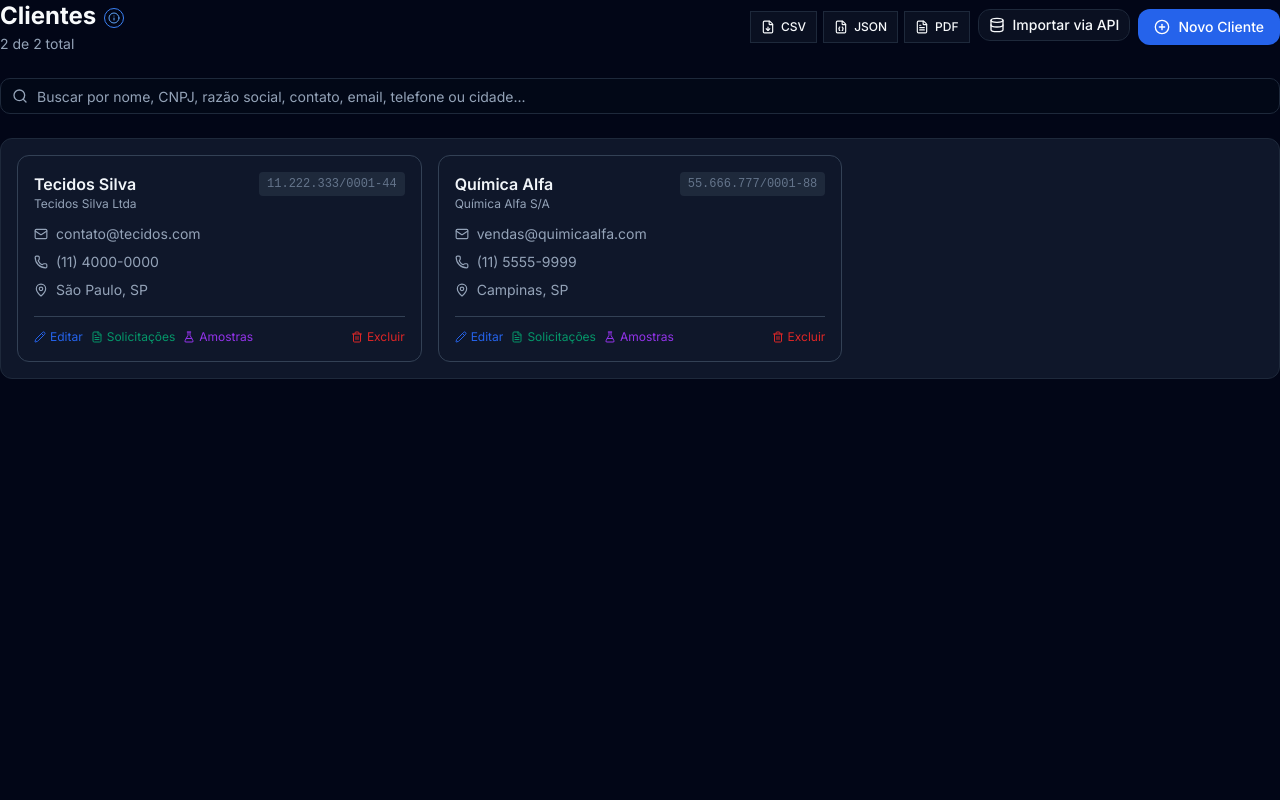
ClientesComercialPage - excluir › exclui um cliente via modal de confirmação
Expected: the heading "Tecidos Silva" is shown, [34, 174, 136, 194]
Click the button "Excluir" below "São Paulo". click: point(378, 337)
box: [351, 329, 405, 345]
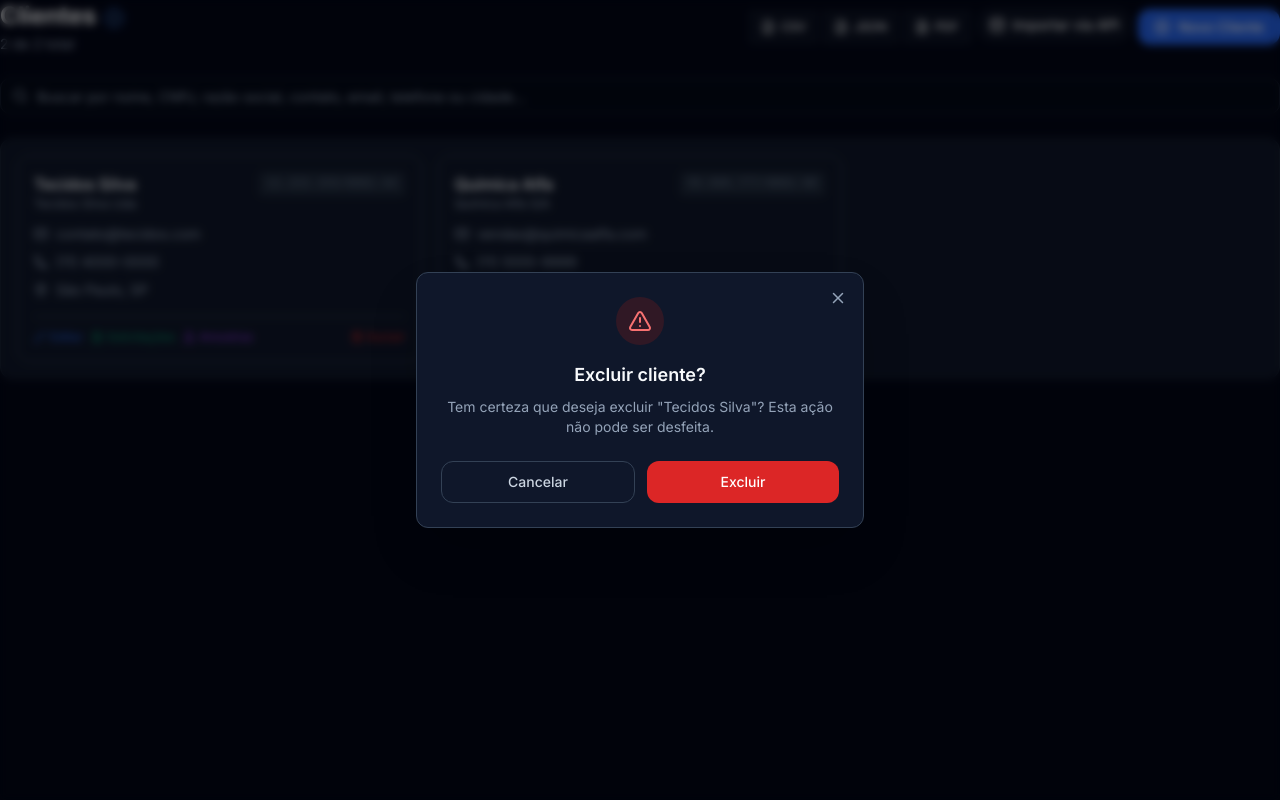
Click the button "Excluir". click: point(743, 482)
box: [647, 461, 839, 503]
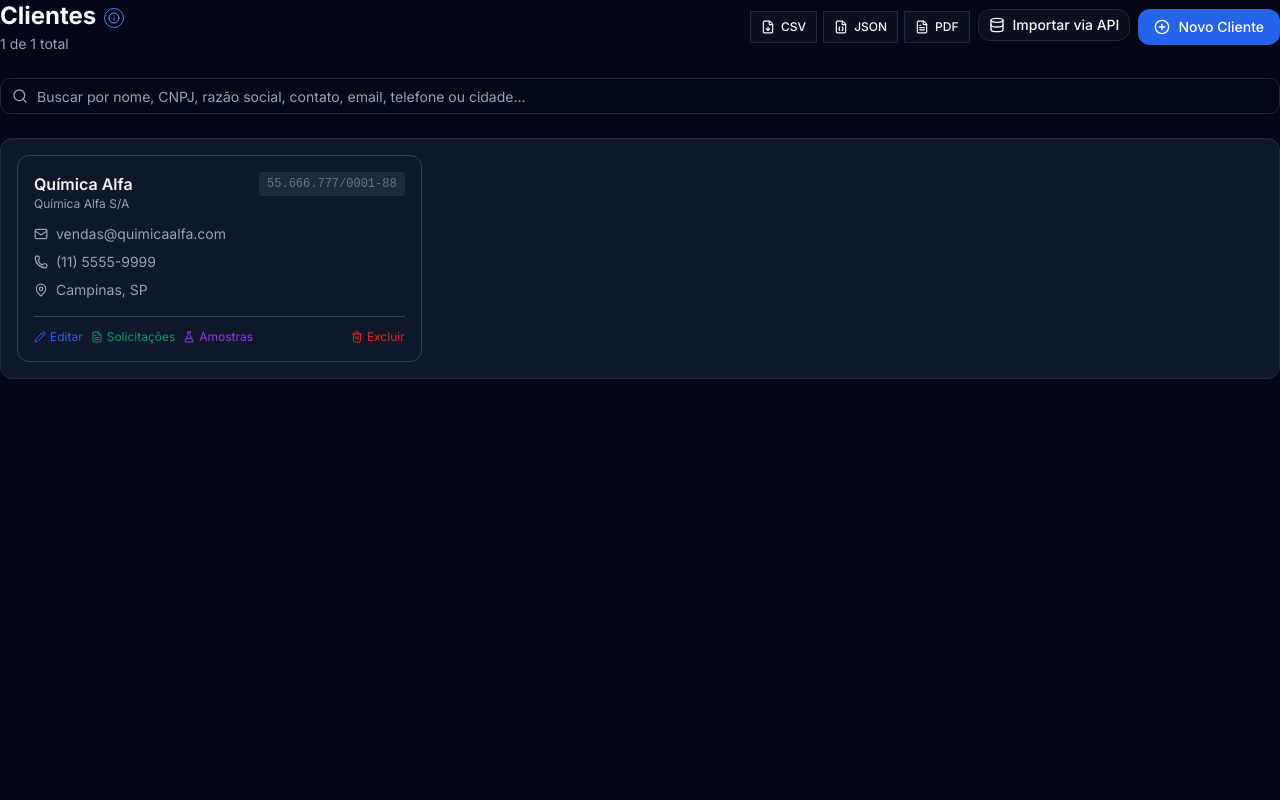
Expected: the heading "Química Alfa" is shown, [34, 174, 133, 194]
Expected: the heading "Tecidos Silva" is gone
